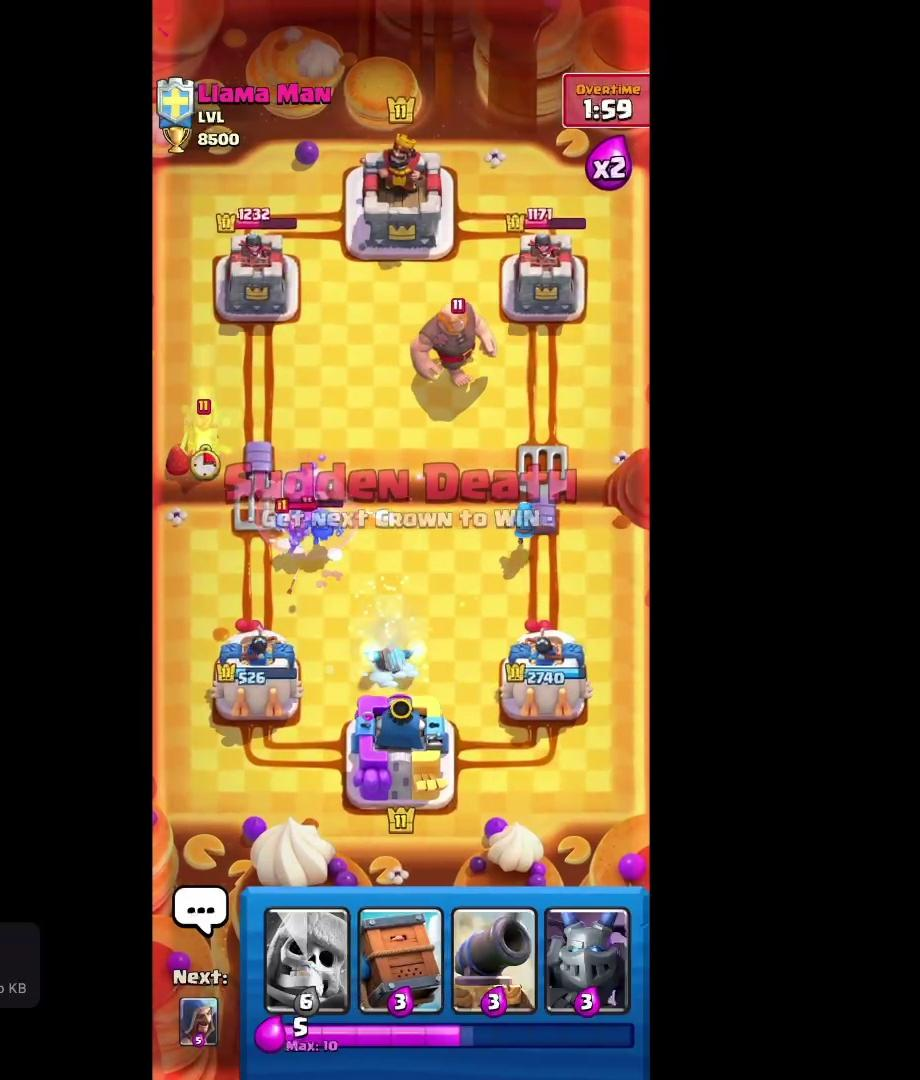Giant: (400, 291, 506, 399)
